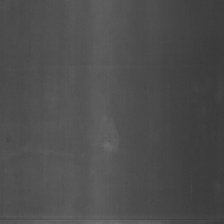welding_line: (0, 212, 223, 224)
